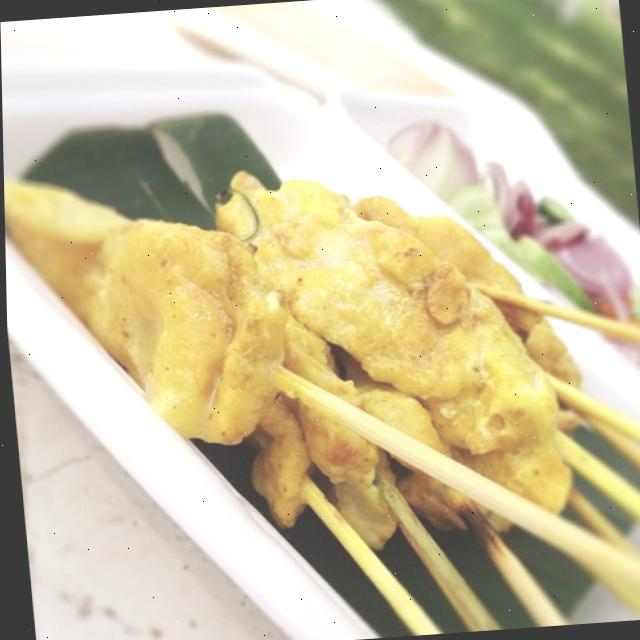牛肉菜式: (1, 29, 640, 640)
